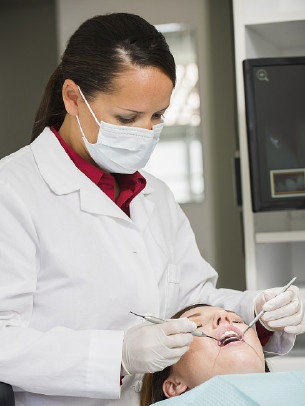Mask: (84, 91, 167, 176)
